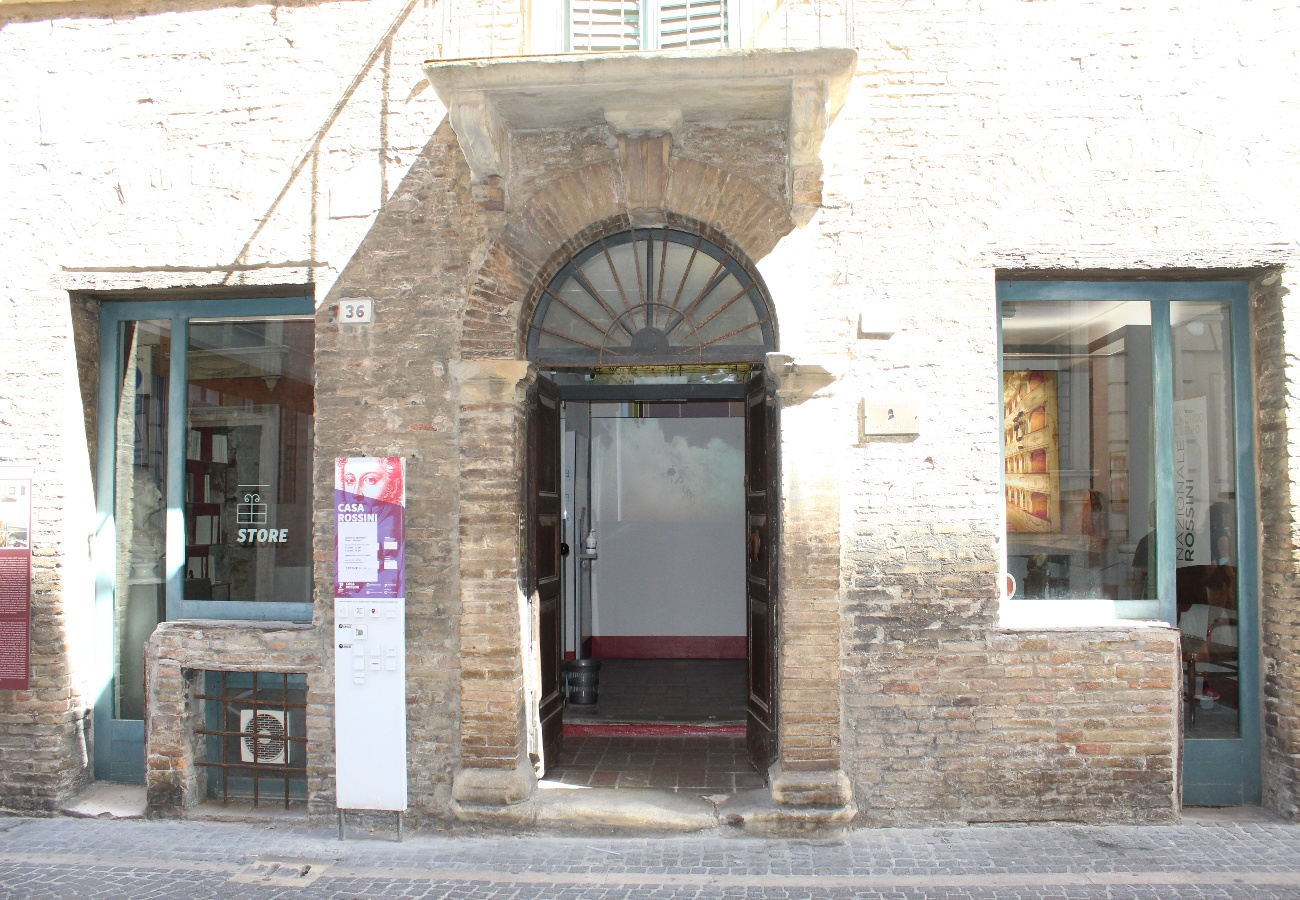Casa Rossini: (38, 65, 1291, 842)
